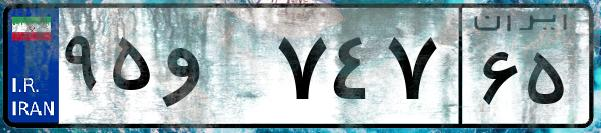4: (330, 28, 385, 110)
5: (525, 38, 570, 115), (110, 28, 158, 98)
6: (475, 38, 525, 113)
7: (270, 28, 330, 110), (385, 28, 445, 110)
9: (57, 26, 110, 100)
و: (158, 20, 270, 120)
